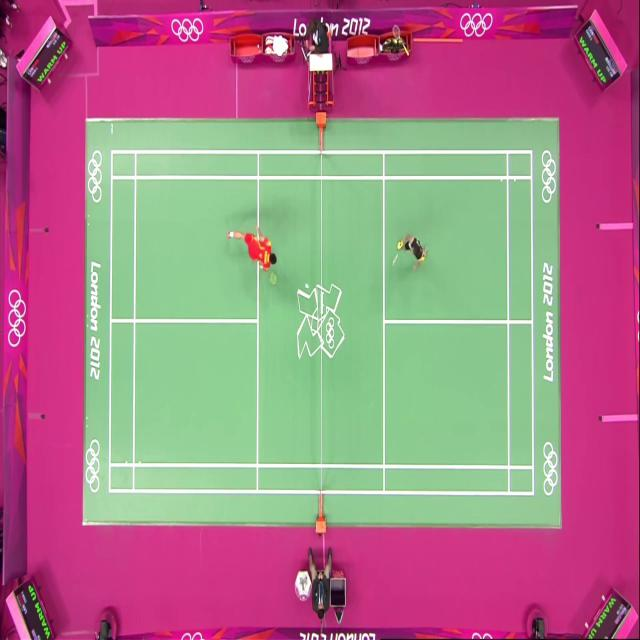Net: (312, 115, 332, 542)
Player1: (380, 204, 430, 293)
Player2: (238, 202, 284, 300)
